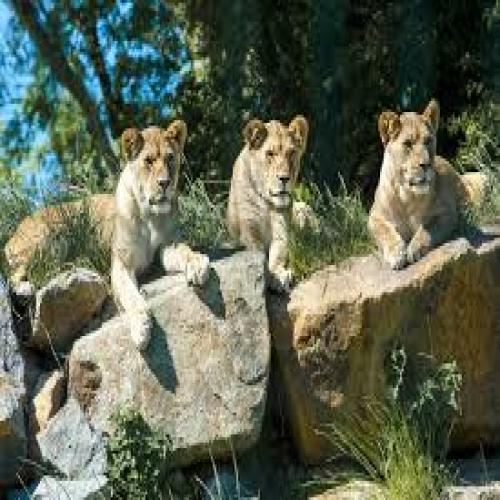lion-endangered: (10, 117, 212, 352), (364, 94, 500, 276), (226, 113, 320, 287)
